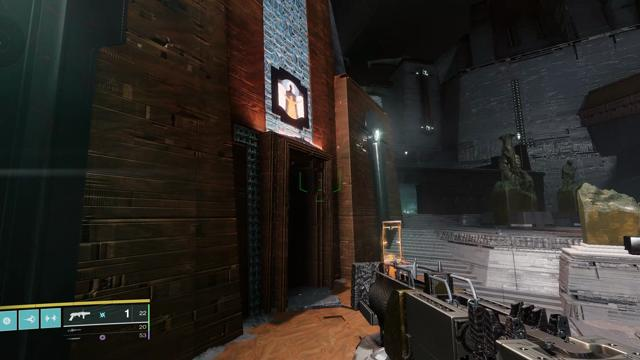worship: (278, 79, 305, 120)
